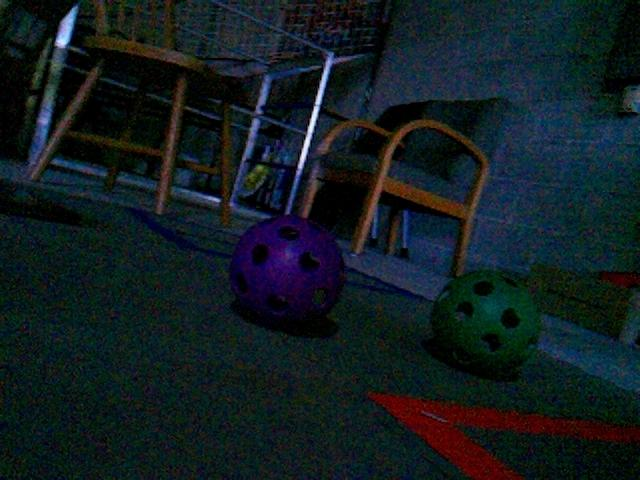Green: (424, 267, 543, 376)
Purple: (226, 214, 345, 325)
